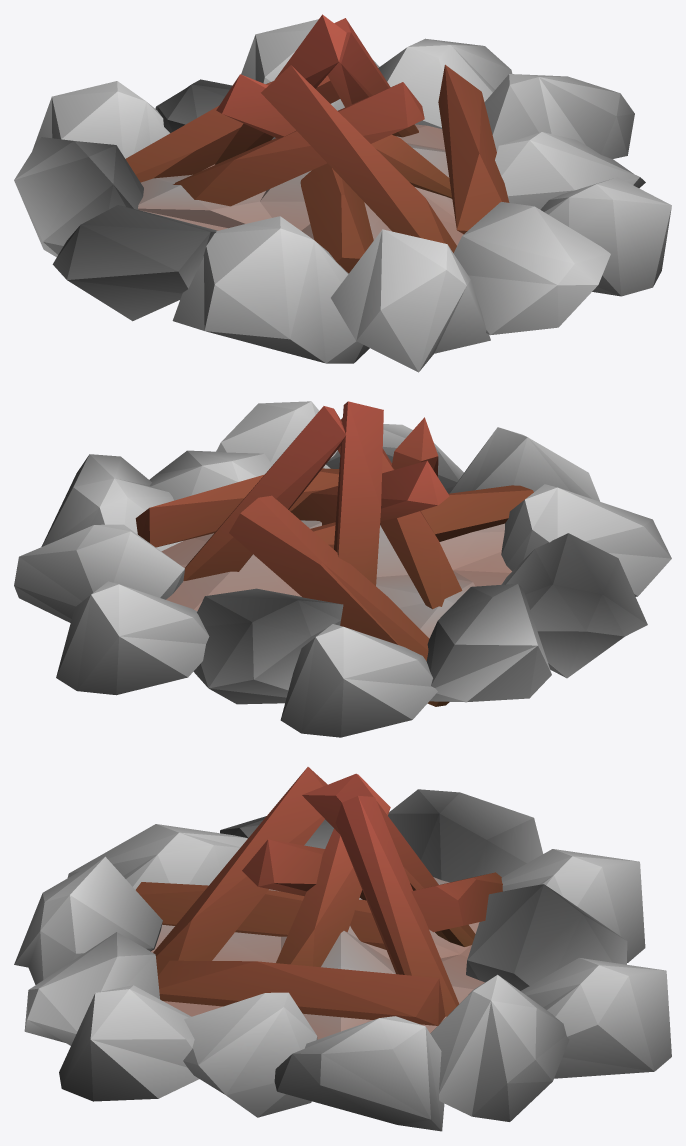
The model's file is campfire.glb.
3 views of the same model, one above another, from view 1: azimuth 30°, elevation 25°; view 2: azimuth 150°, elevation 25°; view 3: azimuth 270°, elevation 25° (orthographic). The views are drawn at different scales.
Parts seen in each view (by area): view 1: Campfire_mesh1; view 2: Campfire_mesh1; view 3: Campfire_mesh1.
Boxes of the visible parts, x1,y1,x2,y2 form: Campfire_mesh1: (14, 14, 671, 372); Campfire_mesh1: (14, 401, 671, 737); Campfire_mesh1: (14, 767, 671, 1131).
Bounding box in the file's own units: 2.29 × 0.8763 × 2.2.
Materials: 1 (1 with a texture image).
